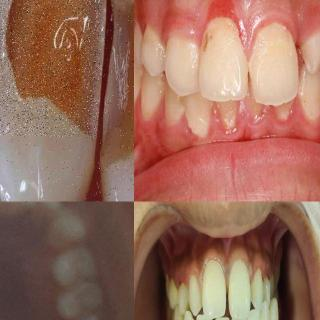Gum Swelling: (206, 96, 304, 142), (246, 9, 320, 60), (202, 0, 234, 30)
cavities: (0, 0, 99, 134)
maligned: (31, 202, 59, 234), (247, 268, 267, 306), (267, 296, 279, 320), (253, 304, 270, 320)
plaque: (201, 14, 249, 99), (252, 19, 294, 105), (142, 24, 166, 72), (184, 100, 210, 141), (164, 87, 183, 131)
